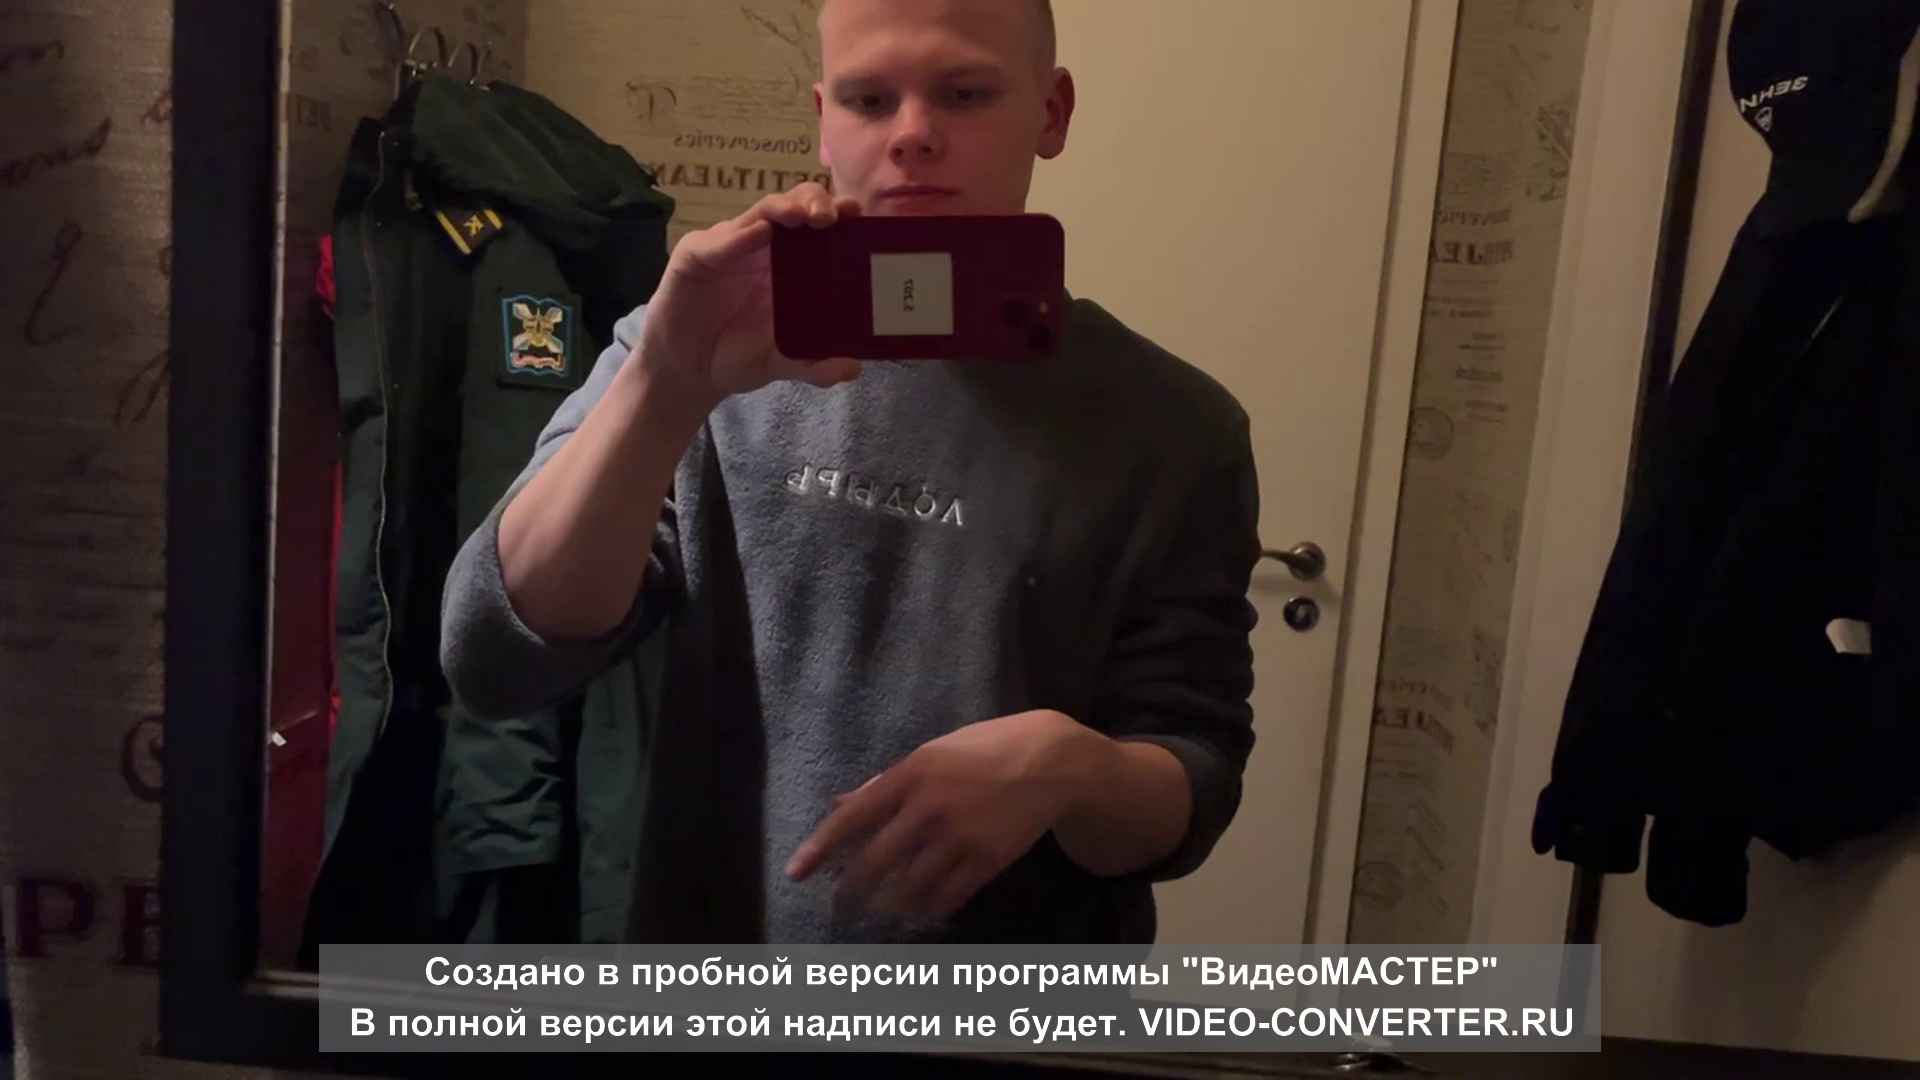Кисть: (786, 708, 1064, 927)
